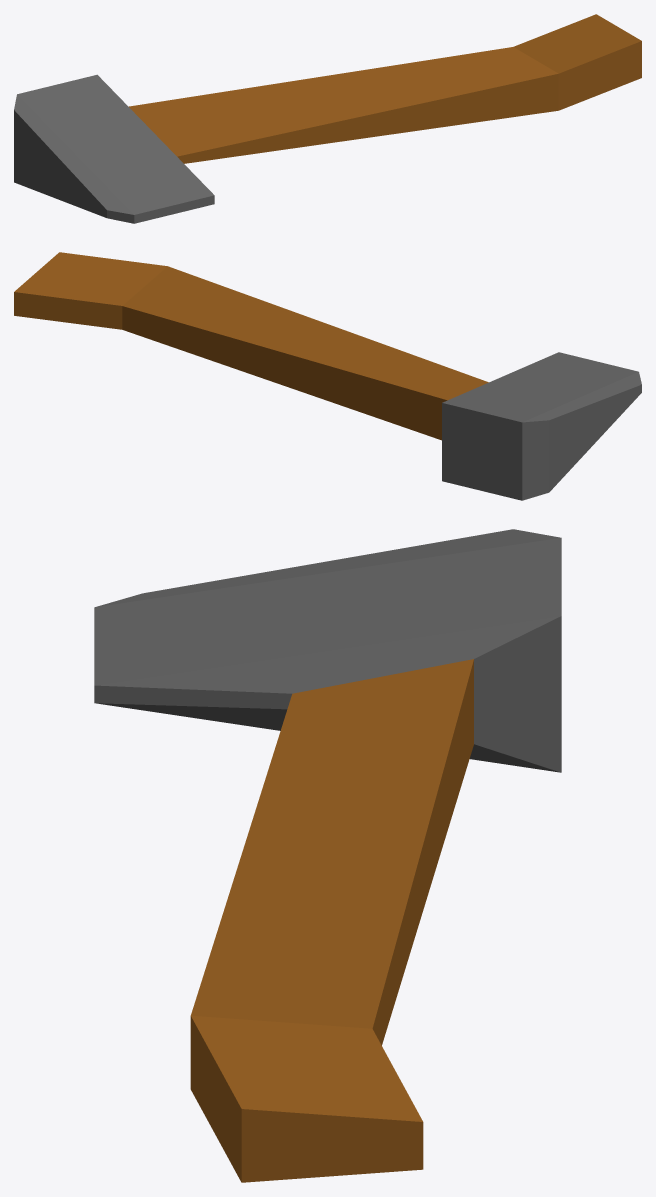
File: Axe.fbx
The picture shows the model from 3 angles, top to bottom: view 1: azimuth 30°, elevation 25°; view 2: azimuth 150°, elevation 25°; view 3: azimuth 270°, elevation 25°; orthographic projection. The views are drawn at different scales.
Visible parts, largest first — view 1: Awe; view 2: Awe; view 3: Awe.
Part boxes in pixels (<box>): Awe: <box>14,14,641,223</box>; Awe: <box>14,252,641,500</box>; Awe: <box>94,529,561,1182</box>.
Bounding box in the file's own units: 81.86 × 10.99 × 29.69.
